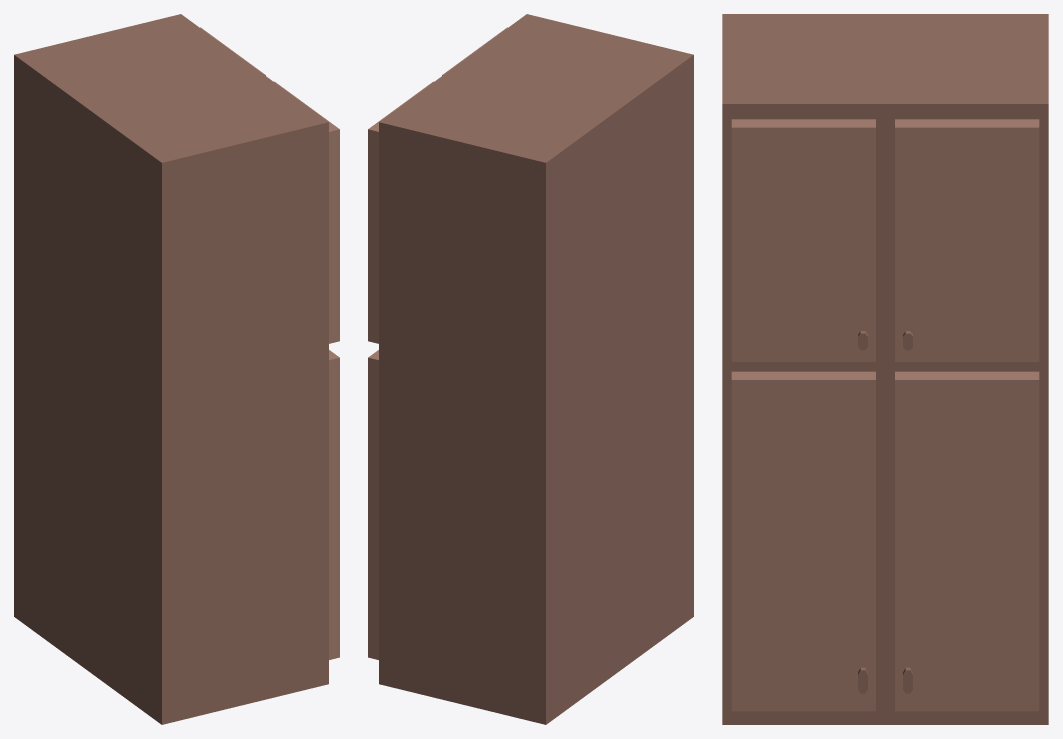
File: pantry-closet.fbx
3 renders of one model, left to right at view 1: azimuth 30°, elevation 25°; view 2: azimuth 150°, elevation 25°; view 3: azimuth 270°, elevation 25°, orthographic. The views are drawn at different scales.
Parts seen in each view (by area): view 1: pCube21; view 2: pCube21; view 3: pCube21.
Part boxes in pixels (left/top/right/bottom): pCube21: left=14, top=14, right=339, bottom=724; pCube21: left=368, top=14, right=693, bottom=724; pCube21: left=722, top=14, right=1048, bottom=724.
Size of the model in its own units: 1.13 by 3.26 by 1.55.
